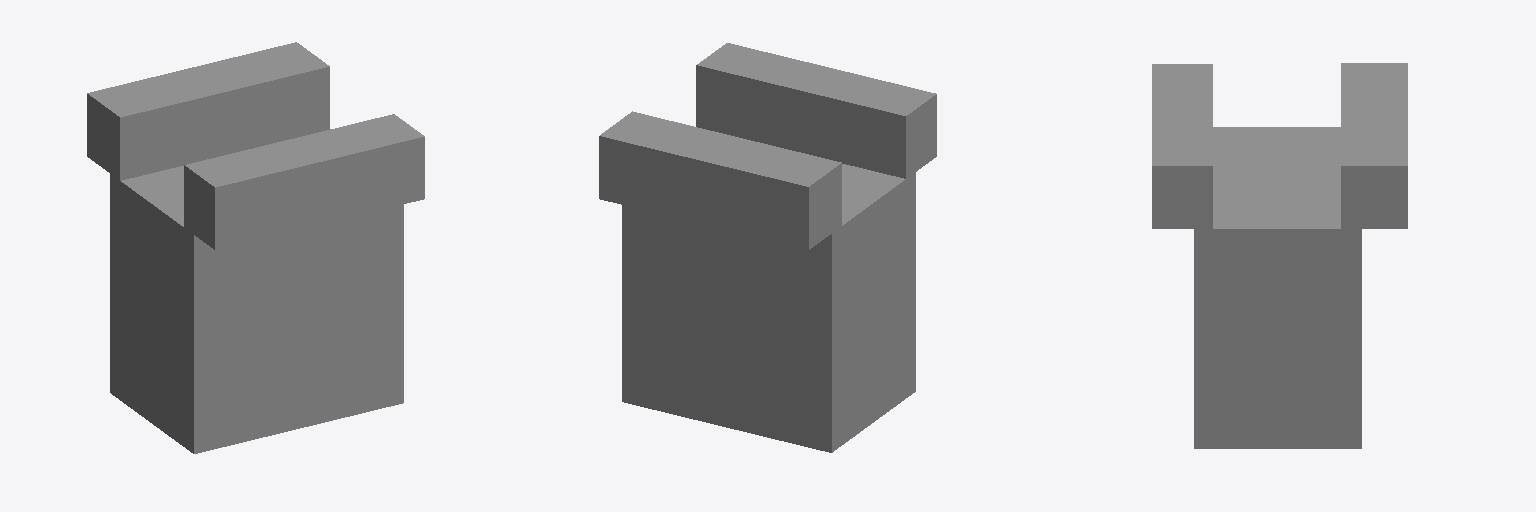
Rendered from player.obj.
The picture shows the model from 3 angles: view 1: azimuth 30°, elevation 25°; view 2: azimuth 150°, elevation 25°; view 3: azimuth 270°, elevation 25°; orthographic projection.
Parts seen in each view (by area): view 1: Cube; view 2: Cube; view 3: Cube.
Part boxes in pixels (left/top/right/bottom): Cube: left=87, top=42, right=424, bottom=453; Cube: left=599, top=43, right=936, bottom=452; Cube: left=1152, top=63, right=1407, bottom=448.
Bounding box in the file's own units: 2.01 × 2.59 × 2.12.